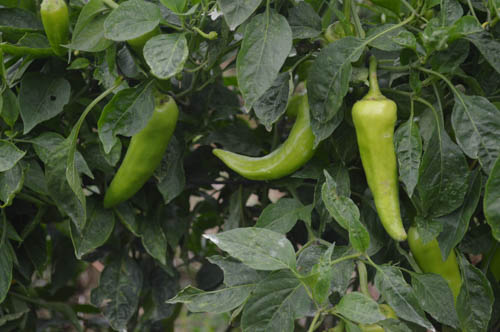ChiliPepper: (212, 91, 319, 184), (102, 105, 182, 201), (355, 101, 402, 240), (410, 228, 466, 303), (39, 4, 71, 54)
